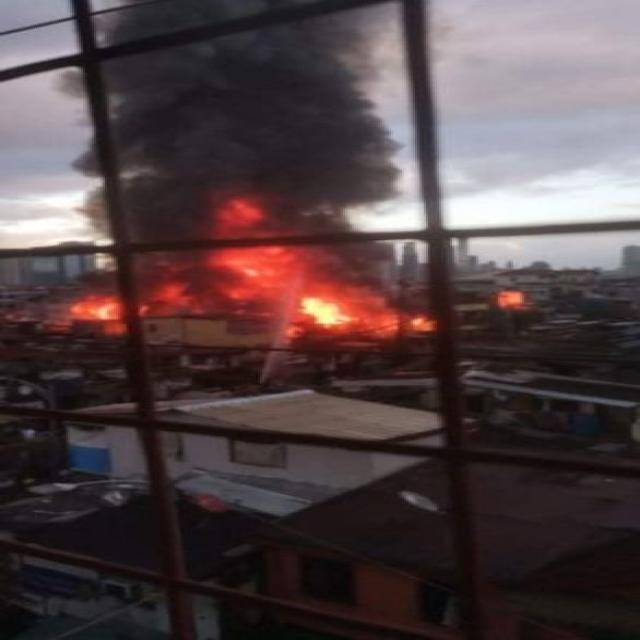Fire: (139, 248, 434, 345), (186, 188, 300, 238), (71, 284, 125, 334), (490, 283, 522, 313)
Smoke: (59, 0, 406, 273)
